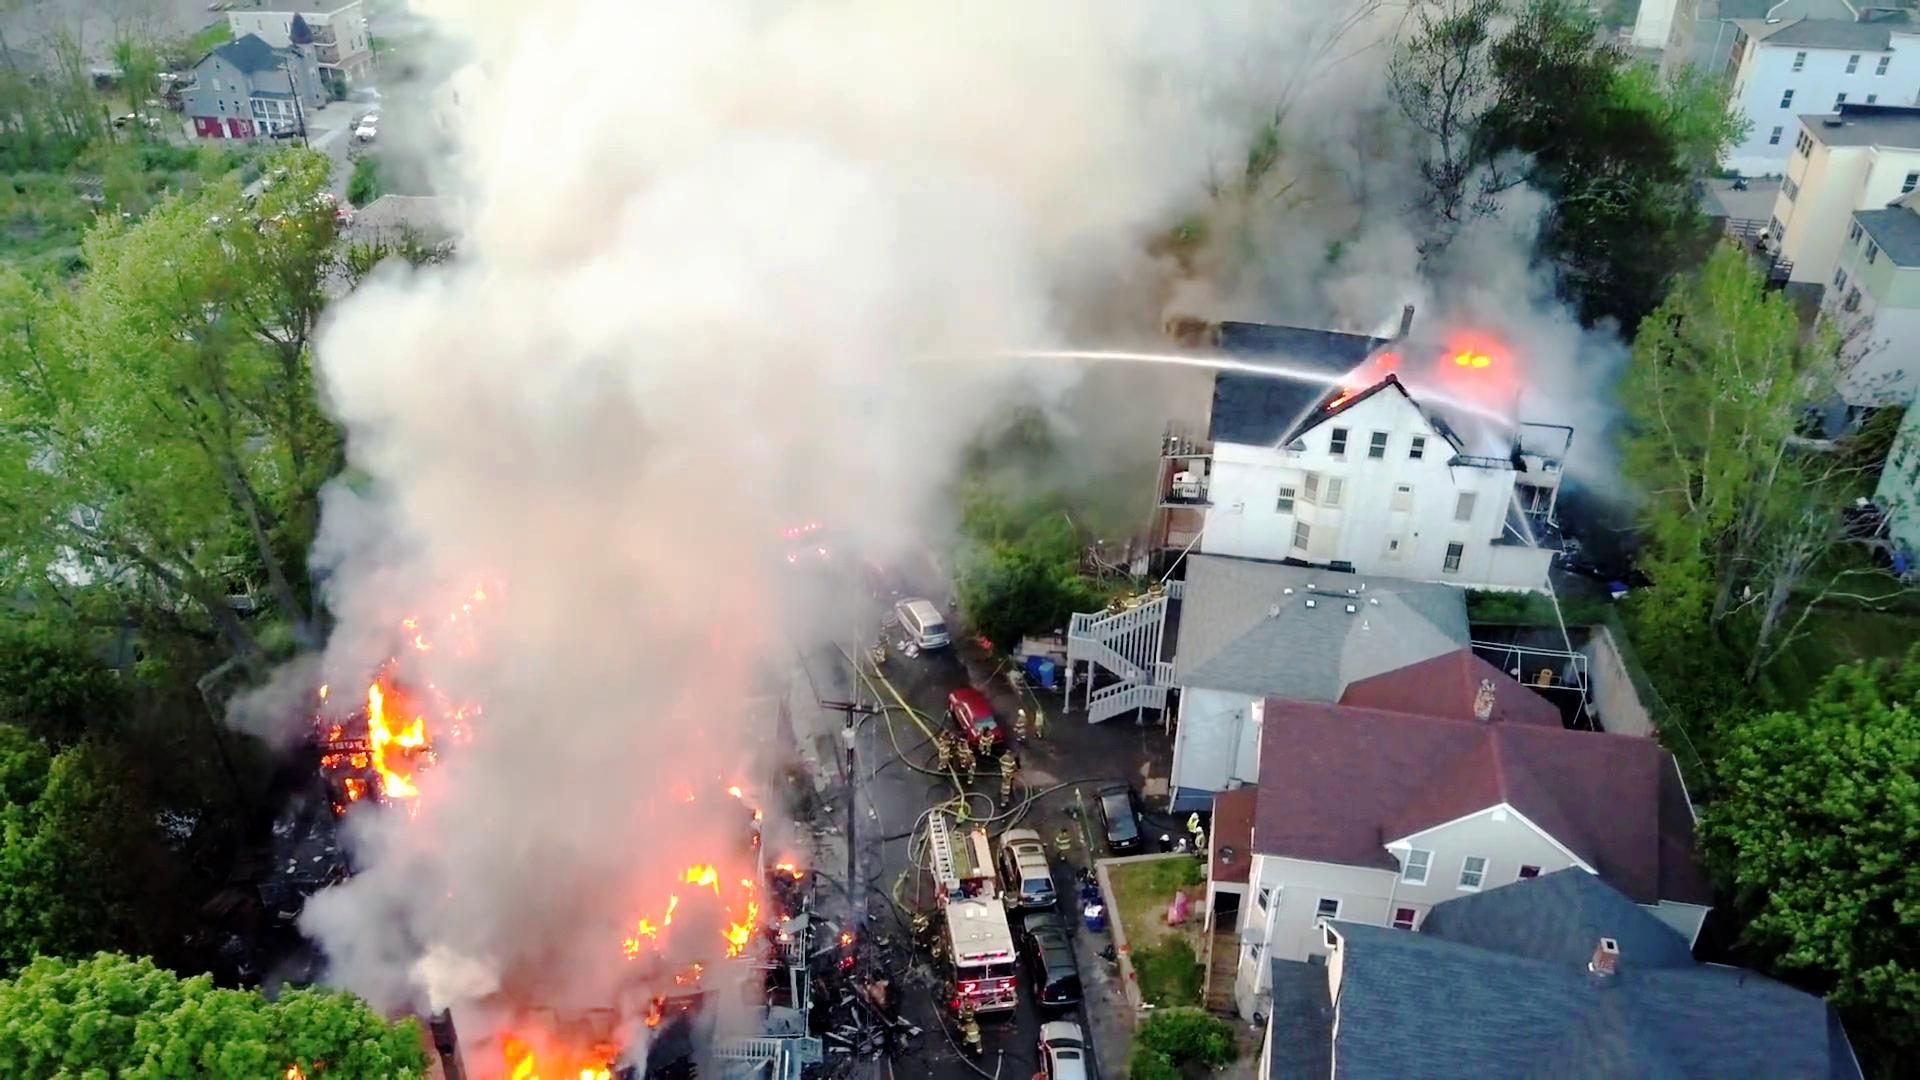fire: (613, 814, 761, 960), (331, 673, 411, 812), (476, 1023, 629, 1080)
smoke: (455, 22, 857, 572)
